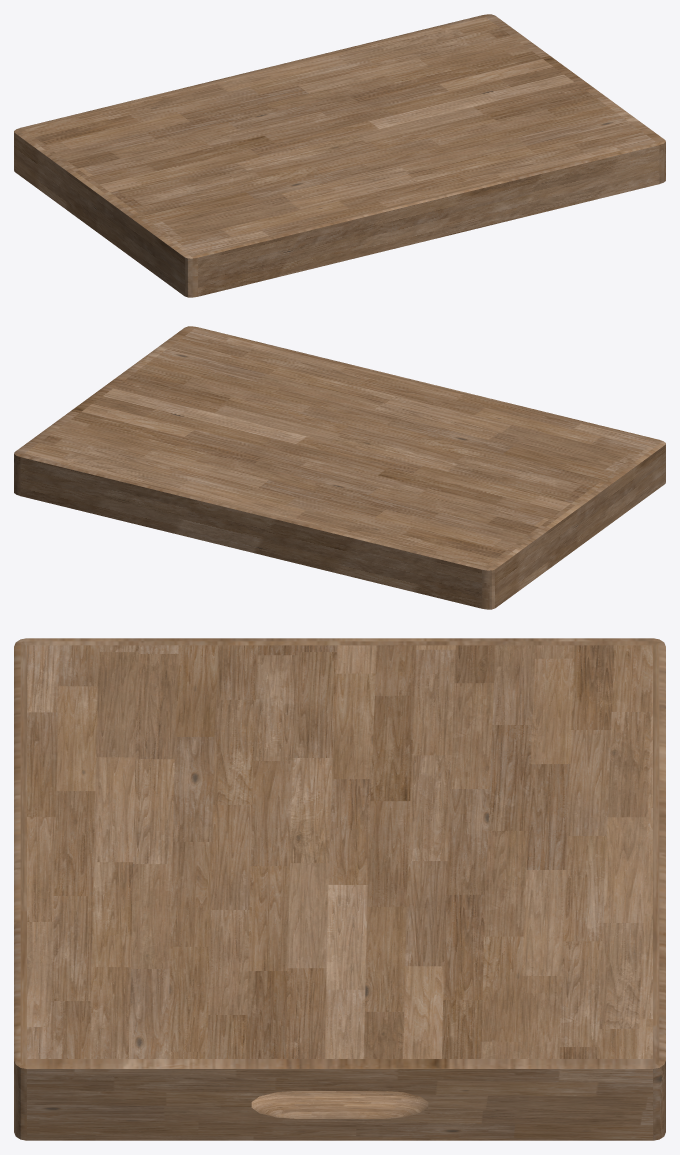
3 renders of one model, top to bottom at view 1: azimuth 30°, elevation 25°; view 2: azimuth 150°, elevation 25°; view 3: azimuth 270°, elevation 25°, orthographic. The views are drawn at different scales.
Parts seen in each view (by area): view 1: choppingBoard; view 2: choppingBoard; view 3: choppingBoard.
Boxes of the visible parts, box(x1,y1,x2,y2) form: choppingBoard: box(14, 14, 665, 297); choppingBoard: box(14, 326, 665, 609); choppingBoard: box(14, 638, 665, 1140).
Size of the model in its own units: 0.7727 by 0.0625 by 0.4942.
1 material, 1 textured.
